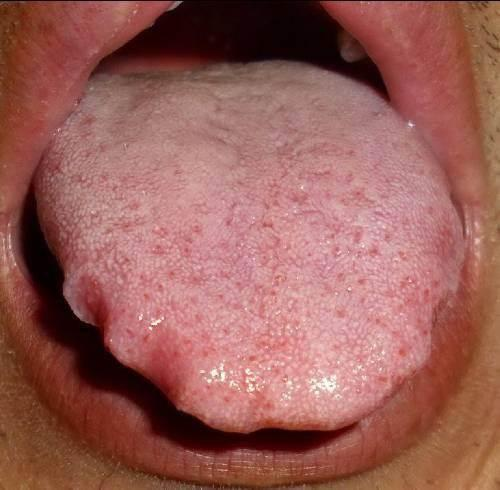baitaishe: (33, 59, 463, 434)
chihenshe: (59, 261, 114, 348)
hongdianshe: (223, 214, 235, 230), (245, 351, 258, 364), (397, 345, 408, 360), (430, 276, 440, 290), (140, 290, 151, 302), (358, 294, 368, 307)
